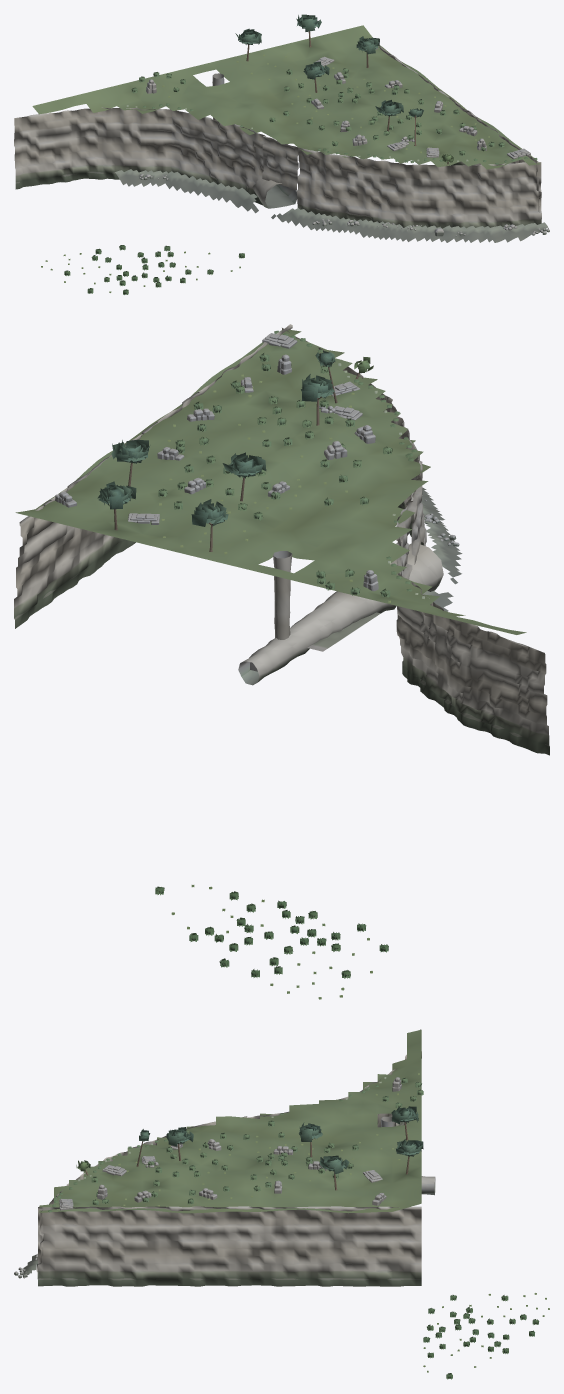
File: cave.glb
3 renders of one model, top to bottom at view 1: azimuth 30°, elevation 25°; view 2: azimuth 150°, elevation 25°; view 3: azimuth 270°, elevation 25°, orthographic. The views are drawn at different scales.
Visible parts, largest first — view 1: east_headland, east_cliff_b, east_cliff_a, cliff_rubble, cave_lintel, smugglers_cave, east_edge, pine_stone.001, pine_stone.004, pine_stone.005, pine_stone.002, pine_stone.003; view 2: east_headland, east_cliff_b, east_edge, smugglers_cave, cliff_rubble, blowhole_shaft, east_cliff_a, pine_stone.002, pine_stone.005, pine_stone.003; view 3: east_edge, east_headland, pine_stone.005, pine_stone.004, pine_stone.003.
Boxes of the visible parts, left/top/right/bottom form: east_headland: left=32, top=25, right=540, bottom=169; east_cliff_b: left=14, top=107, right=265, bottom=205; east_cliff_a: left=297, top=147, right=541, bottom=232; cliff_rubble: left=115, top=169, right=548, bottom=242; cave_lintel: left=262, top=136, right=298, bottom=190; smugglers_cave: left=252, top=179, right=297, bottom=208; east_edge: left=378, top=46, right=541, bottom=212; pine_stone.001: left=375, top=100, right=403, bottom=131; pine_stone.004: left=296, top=14, right=321, bottom=47; pine_stone.005: left=356, top=36, right=379, bottom=67; pine_stone.002: left=303, top=61, right=329, bottom=92; pine_stone.003: left=235, top=28, right=261, bottom=61; east_headland: left=15, top=330, right=526, bottom=634; east_cliff_b: left=396, top=501, right=549, bottom=755; east_edge: left=14, top=324, right=292, bottom=628; smugglers_cave: left=238, top=543, right=443, bottom=685; cliff_rubble: left=421, top=487, right=462, bottom=611; blowhole_shaft: left=273, top=551, right=292, bottom=639; east_cliff_a: left=282, top=328, right=426, bottom=545; pine_stone.002: left=222, top=452, right=266, bottom=501; pine_stone.005: left=111, top=439, right=150, bottom=486; pine_stone.003: left=191, top=499, right=228, bottom=551; east_edge: left=38, top=1206, right=421, bottom=1286; east_headland: left=39, top=1029, right=421, bottom=1213; pine_stone.005: left=320, top=1155, right=349, bottom=1190; pine_stone.004: left=396, top=1139, right=423, bottom=1174; pine_stone.003: left=391, top=1106, right=418, bottom=1140.
Bounding box in the file's own units: 149 × 99.14 × 182.
